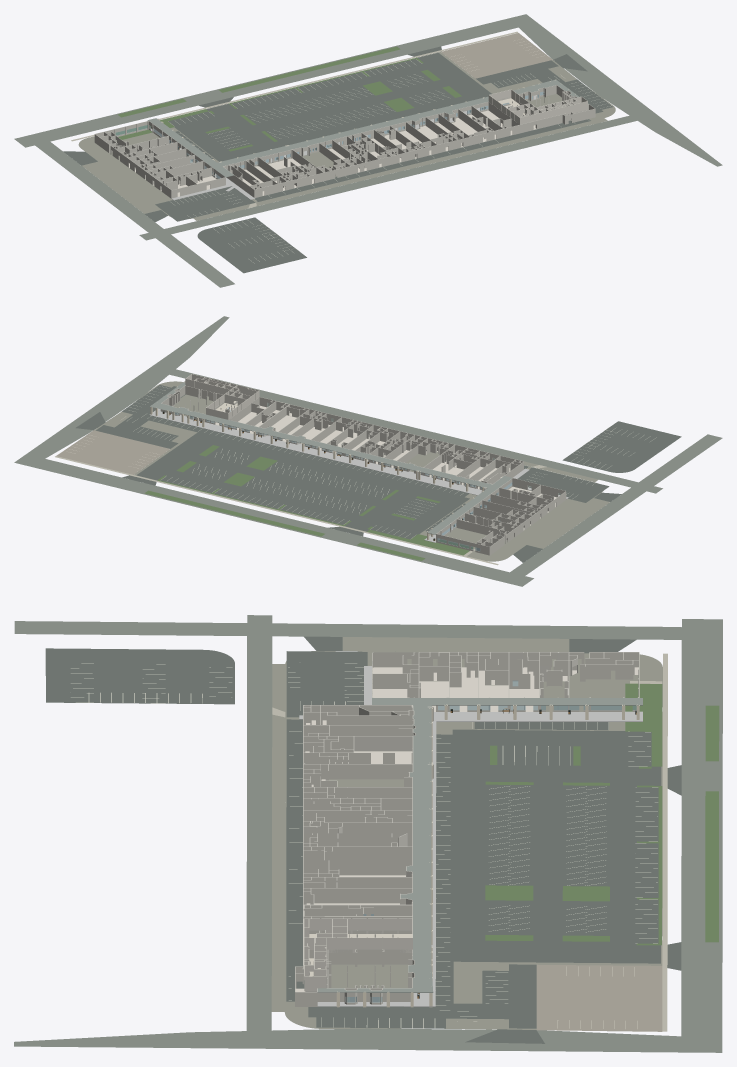
Rendered from complete-model.glb.
3 views of the same model, one above another, from view 1: azimuth 30°, elevation 25°; view 2: azimuth 150°, elevation 25°; view 3: azimuth 270°, elevation 25° (orthographic). The views are drawn at different scales.
Visible parts, largest first — view 1: Building_Walls, site-zone-main-field/surface, site-zone-road-arnould/surface, site-zone-road-johnston/surface, site-zone-road-ma/surface, site-zone-lot-7/surface, site-zone-site-common-ground/surface, site-zone-road-patricia/surface, site-zone-jd-bank-context/surface, Canopy_Source_Surface, site-zone-rear-ma/surface, site-zone-lot-8/surface (+12 smaller); view 2: site-zone-main-field/surface, Building_Walls, site-zone-road-arnould/surface, site-zone-road-johnston/surface, site-zone-site-common-ground/surface, site-zone-lot-7/surface, site-zone-road-ma/surface, site-zone-road-patricia/surface, Canopy_Source_Surface, site-zone-jd-bank-context/surface, Walkway_Source_Surface, site-zone-storefront-row/surface (+14 smaller); view 3: site-zone-main-field/surface, Building_Walls, site-zone-road-arnould/surface, site-zone-road-johnston/surface, site-zone-road-ma/surface, site-zone-lot-7/surface, site-zone-site-common-ground/surface, site-zone-road-patricia/surface, site-zone-jd-bank-context/surface, Canopy_Source_Surface, site-zone-storefront-row/surface, site-zone-ma-shoulder/surface (+24 smaller).
Boxes of the visible parts, box(x1,y1,x2,y2) form: Building_Walls: box(94, 85, 595, 198); site-zone-main-field/surface: box(168, 52, 491, 161); site-zone-road-arnould/surface: box(14, 18, 518, 147); site-zone-road-johnston/surface: box(509, 14, 722, 166); site-zone-road-ma/surface: box(139, 115, 637, 240); site-zone-lot-7/surface: box(197, 217, 306, 273); site-zone-site-common-ground/surface: box(78, 52, 615, 219); site-zone-road-patricia/surface: box(35, 142, 234, 287); site-zone-jd-bank-context/surface: box(441, 33, 552, 78); Canopy_Source_Surface: box(147, 80, 588, 177); site-zone-rear-ma/surface: box(255, 119, 590, 201); site-zone-lot-8/surface: box(155, 186, 254, 221); site-zone-main-field/surface: box(136, 432, 469, 539); Building_Walls: box(160, 381, 566, 555); site-zone-road-arnould/surface: box(31, 459, 533, 586); site-zone-road-johnston/surface: box(14, 316, 229, 466); site-zone-site-common-ground/surface: box(94, 381, 602, 561); site-zone-lot-7/surface: box(562, 421, 681, 472); site-zone-road-ma/surface: box(169, 369, 662, 493); site-zone-road-patricia/surface: box(510, 434, 722, 575); Canopy_Source_Surface: box(150, 382, 566, 534); site-zone-jd-bank-context/surface: box(56, 430, 169, 474); Walkway_Source_Surface: box(149, 408, 568, 542); site-zone-storefront-row/surface: box(149, 416, 469, 497); site-zone-main-field/surface: box(452, 729, 661, 963); Building_Walls: box(295, 652, 639, 1006); site-zone-road-arnould/surface: box(681, 619, 722, 1037); site-zone-road-johnston/surface: box(14, 1028, 722, 1052); site-zone-road-ma/surface: box(246, 615, 272, 1030); site-zone-lot-7/surface: box(45, 648, 234, 704); site-zone-site-common-ground/surface: box(285, 651, 662, 1029); site-zone-road-patricia/surface: box(14, 621, 681, 639); site-zone-jd-bank-context/surface: box(536, 964, 662, 1031); Canopy_Source_Surface: box(317, 661, 642, 992); site-zone-storefront-row/surface: box(435, 734, 453, 1003); site-zone-ma-shoulder/surface: box(271, 664, 285, 1012).
Size of the model in its own units: 245 by 7.01 by 168.
